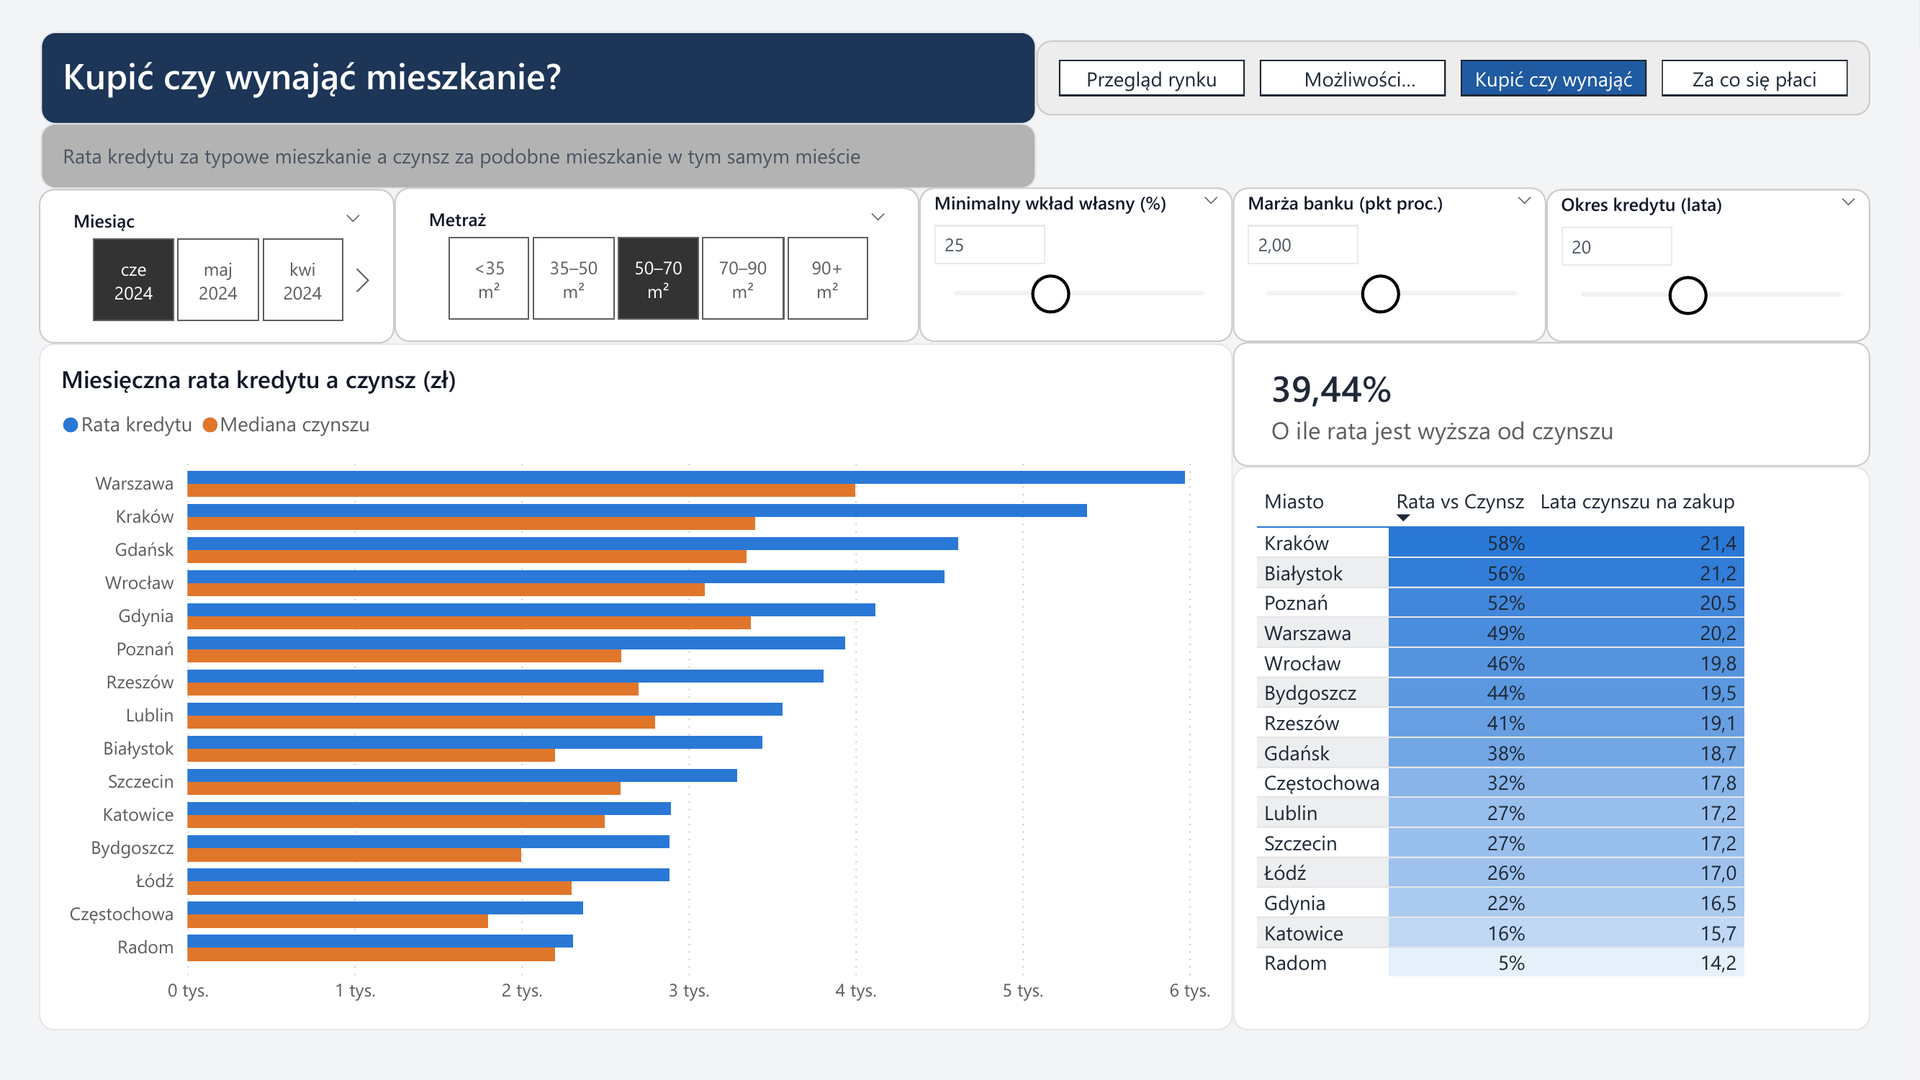

This screenshot's page, from the dashboard's own definition file:
{"tool":"powerbi","page":{"name":"Kupić czy wynająć","canvas":[1280,720],"ordinal":2},"visuals":[{"type":"textbox","box":[26.5,21,664.3,61.9],"z":0},{"type":"textbox","box":[26.5,81.8,664.3,44.2],"z":1000},{"type":"pageNavigator","box":[690.8,26.5,556,50.8],"z":2000},{"type":"slicer","fields":{"Values":["dim_month.month_label"]},"box":[26.3,126.4,236.4,102.1],"z":3000},{"type":"slicer","fields":{"Values":["dim_listing.size_band"]},"box":[262.6,125.5,350.2,102.1],"z":4000},{"type":"slicer","fields":{"Values":["Down Payment.Down Payment"]},"box":[612.8,125.5,209.1,102.1],"z":5000},{"type":"slicer","fields":{"Values":["Bank Margin.Bank Margin"]},"box":[821.9,125.5,209.1,102.1],"z":6000},{"type":"slicer","fields":{"Values":["Loan Term.Loan Term"]},"box":[1031,126.4,215.9,101.2],"z":7000},{"type":"clusteredBarChart","title":"Miesięczna rata kredytu a czynsz (zł)","fields":{"Category":["dim_city.city_name"],"Y":["_Measures.Monthly Payment","_Measures.Median Rent"]},"box":[25.9,228.9,796.4,457.7],"z":8000},{"type":"cardVisual","fields":{"Data":["_Measures.Payment vs Rent %"]},"box":[822.3,227.8,424.6,82.8],"z":9000},{"type":"tableEx","fields":{"Values":["dim_city.city_name","_Measures.Payment vs Rent %","_Measures.Years of Rent to Buy"]},"box":[822.3,310.7,424.6,375.9],"z":10000}]}

Visuals, with their boxes in screenshot pixels (x1, y1, x2, y2), scaled from the page's 1280x720 canvas onto the 1920x1080 screenshot:
textbox: {"left": 40, "top": 32, "right": 1036, "bottom": 124}
textbox: {"left": 40, "top": 123, "right": 1036, "bottom": 189}
pageNavigator: {"left": 1036, "top": 40, "right": 1870, "bottom": 116}
slicer - dim_month.month_label: {"left": 39, "top": 190, "right": 394, "bottom": 343}
slicer - dim_listing.size_band: {"left": 394, "top": 188, "right": 919, "bottom": 341}
slicer - Down Payment.Down Payment: {"left": 919, "top": 188, "right": 1233, "bottom": 341}
slicer - Bank Margin.Bank Margin: {"left": 1233, "top": 188, "right": 1546, "bottom": 341}
slicer - Loan Term.Loan Term: {"left": 1546, "top": 190, "right": 1870, "bottom": 341}
"Miesięczna rata kredytu a czynsz (zł)" clusteredBarChart: {"left": 39, "top": 343, "right": 1233, "bottom": 1030}
cardVisual - _Measures.Payment vs Rent %: {"left": 1233, "top": 342, "right": 1870, "bottom": 466}
tableEx - dim_city.city_name x _Measures.Payment vs Rent %: {"left": 1233, "top": 466, "right": 1870, "bottom": 1030}
